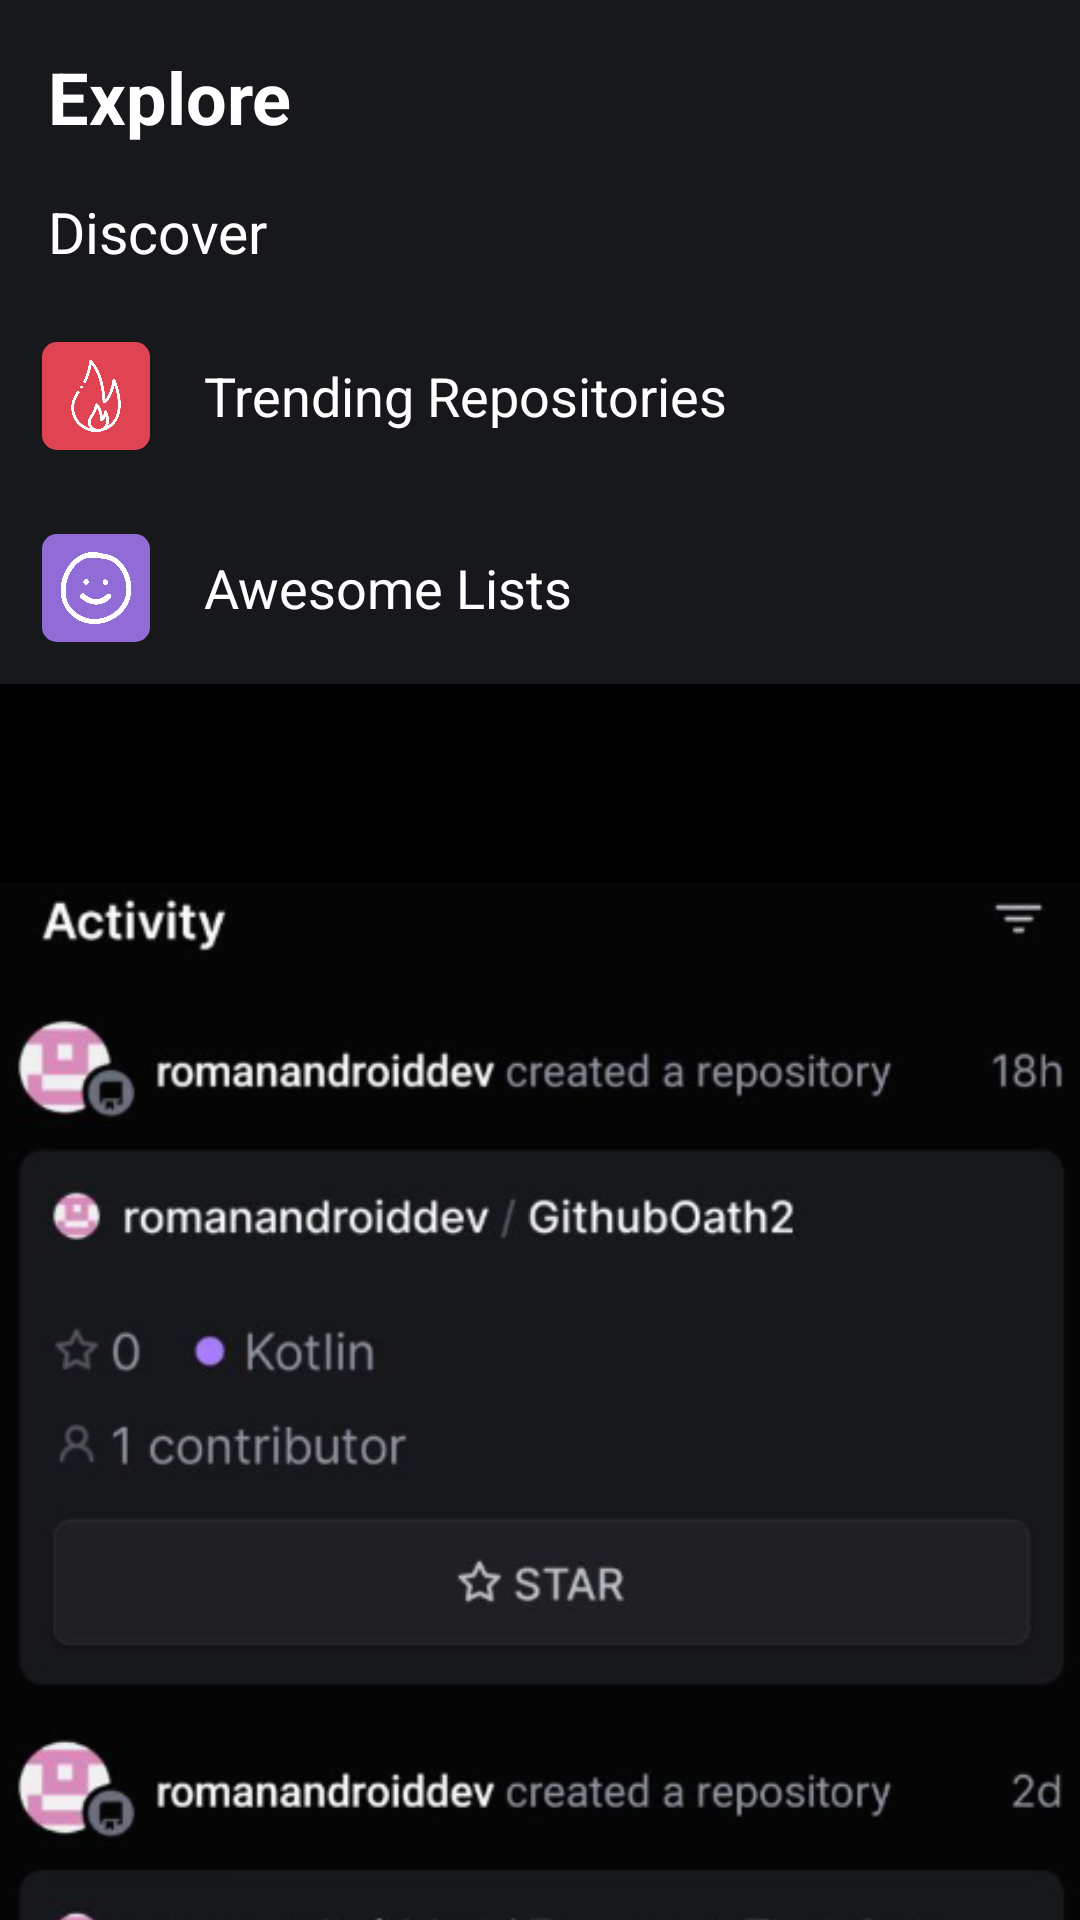

Where icons sit on this 1080x1920 app screen, as (x1, y1, x2, y2):
smile: (42, 534, 150, 642)
